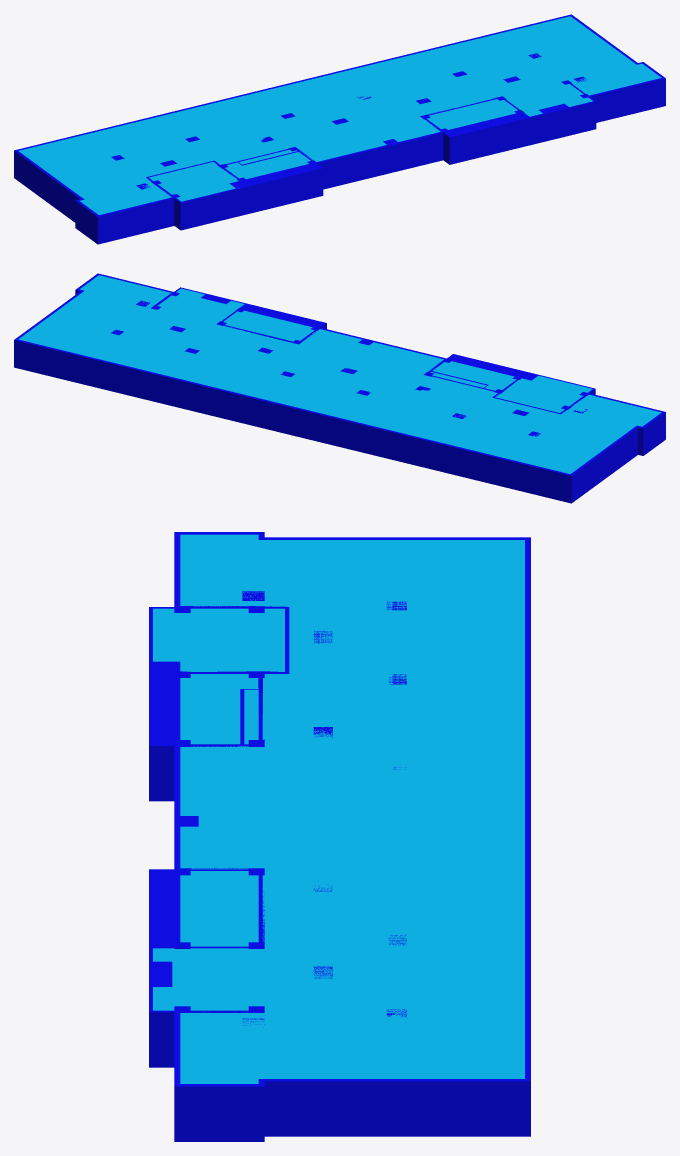
File: floor_17.gltf
3 renders of one model, top to bottom at view 1: azimuth 30°, elevation 25°; view 2: azimuth 150°, elevation 25°; view 3: azimuth 270°, elevation 25°, orthographic. The views are drawn at different scales.
Parts seen in each view (by area): view 1: Room_17_32109_-9106, group_solid_mesh, Room_17_11438_-1936, Room_17_42747_-1874, Room_17_19335_-1547; view 2: Room_17_32109_-9106, group_solid_mesh, Room_17_11438_-1936, Room_17_42747_-1874, Room_17_19335_-1547; view 3: Room_17_32109_-9106, group_solid_mesh, Room_17_11438_-1936, Room_17_42747_-1874, Room_17_19335_-1547.
Boxes of the visible parts, x1,y1,x2,y2 form: Room_17_32109_-9106: [18, 16, 661, 214]; group_solid_mesh: [14, 14, 665, 244]; Room_17_11438_-1936: [149, 162, 238, 201]; Room_17_42747_-1874: [427, 99, 517, 129]; Room_17_19335_-1547: [225, 152, 310, 179]; Room_17_32109_-9106: [18, 275, 661, 473]; group_solid_mesh: [14, 273, 665, 503]; Room_17_11438_-1936: [495, 375, 592, 412]; Room_17_42747_-1874: [223, 310, 314, 341]; Room_17_19335_-1547: [432, 361, 516, 390]; Room_17_32109_-9106: [153, 534, 524, 1083]; group_solid_mesh: [149, 532, 530, 1141]; Room_17_11438_-1936: [153, 608, 284, 671]; Room_17_42747_-1874: [180, 871, 258, 946]; Room_17_19335_-1547: [180, 674, 258, 744].
Size of the model in its own units: 64549 by 3000 by 18799.
